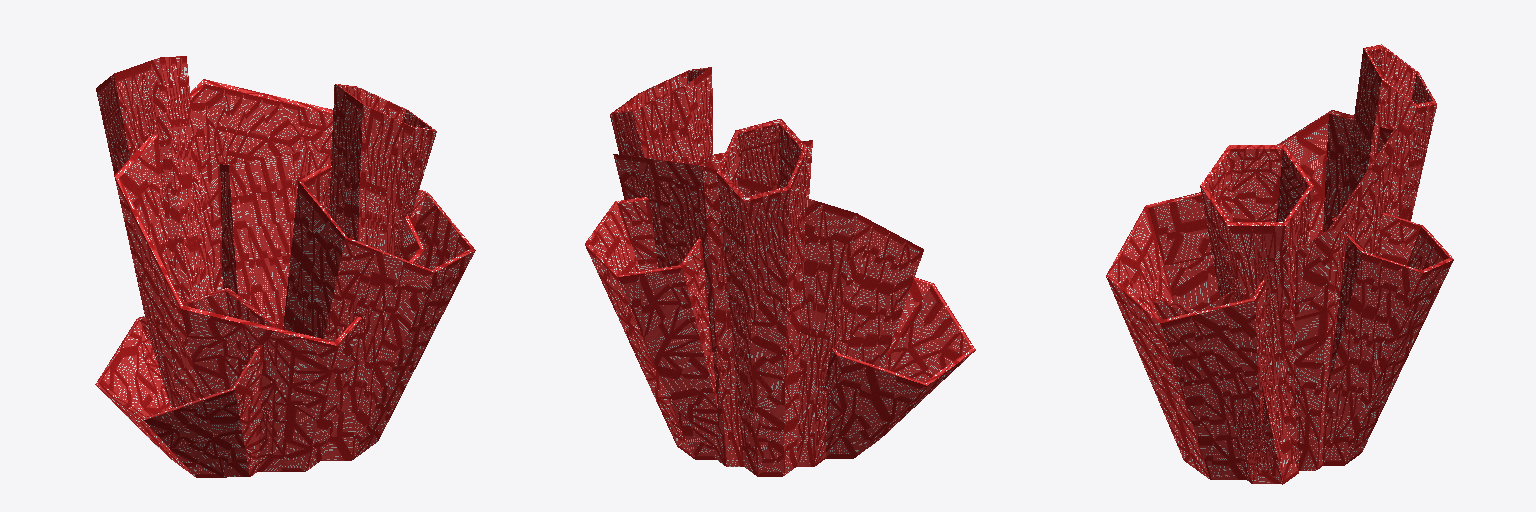
3 renders of one model, left to right at view 1: azimuth 30°, elevation 25°; view 2: azimuth 150°, elevation 25°; view 3: azimuth 270°, elevation 25°, orthographic.
Parts seen in each view (by area): view 1: Barnacle-Vase; view 2: Barnacle-Vase; view 3: Barnacle-Vase.
Part boxes in pixels (left/top/right/bottom): Barnacle-Vase: left=95, top=56, right=475, bottom=477; Barnacle-Vase: left=585, top=67, right=975, bottom=476; Barnacle-Vase: left=1106, top=44, right=1453, bottom=484.
Bounding box in the file's own units: 252 × 273 × 238.
1 materials, 1 textured.